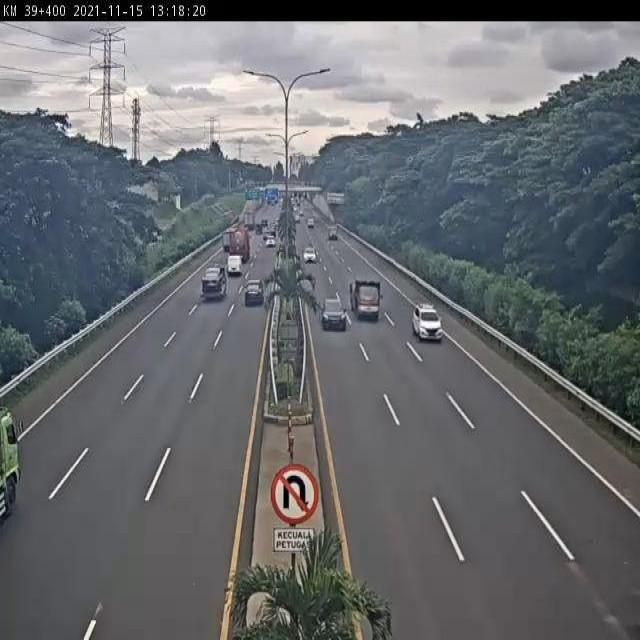car: (411, 302, 444, 342), (320, 296, 346, 332), (244, 276, 265, 305)
truck: (349, 276, 381, 320), (202, 266, 229, 302), (226, 252, 243, 277)
